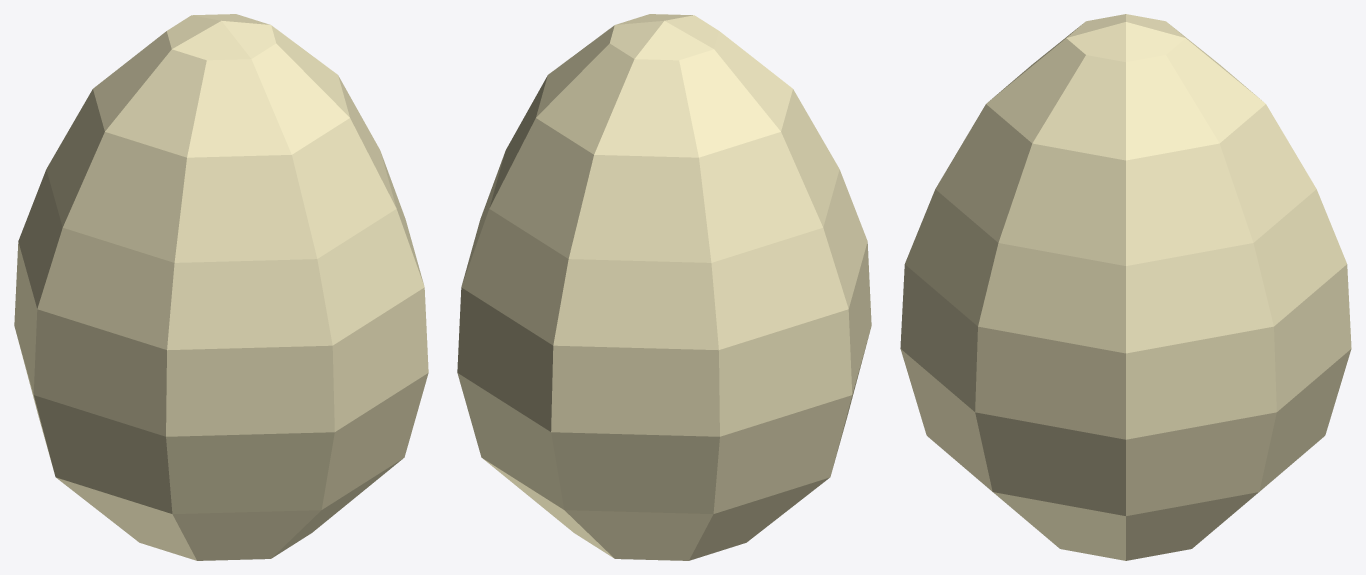
The model's file is Egg.fbx.
3 views of the same model, side by side, from view 1: azimuth 30°, elevation 25°; view 2: azimuth 150°, elevation 25°; view 3: azimuth 270°, elevation 25° (orthographic).
Parts seen in each view (by area): view 1: Egg; view 2: Egg; view 3: Egg.
Part boxes in pixels (x1=…): Egg: x1=14, y1=14, x2=428, y2=560; Egg: x1=457, y1=14, x2=871, y2=560; Egg: x1=900, y1=14, x2=1351, y2=560.
Size of the model in its own units: 4.95 by 6.73 by 5.18.
